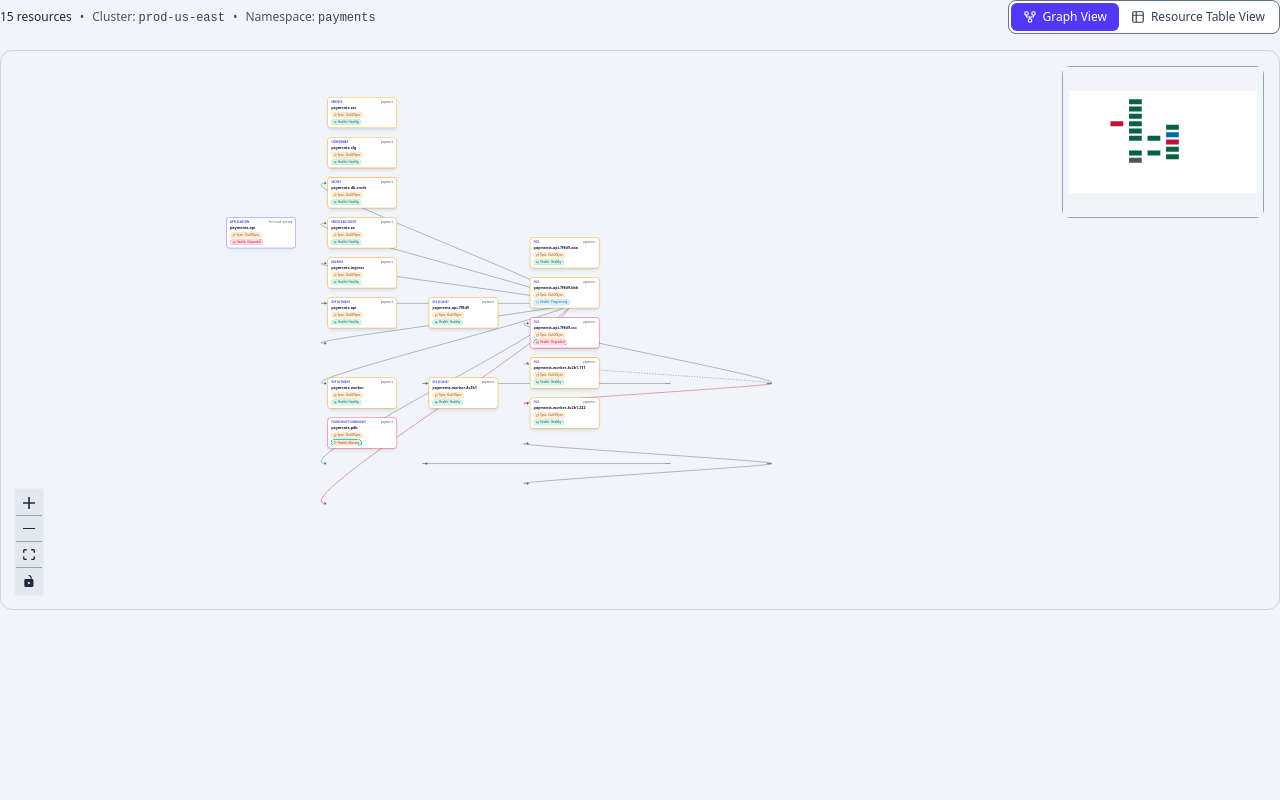
Test: ResourceGraph & dagre layout (T16.3 & Trap Guard T16.3) › closes the ResourceInspector on a backdrop click and on Escape
Click the button "Resource Table View": (1198, 17) [1119,3,1277,31]
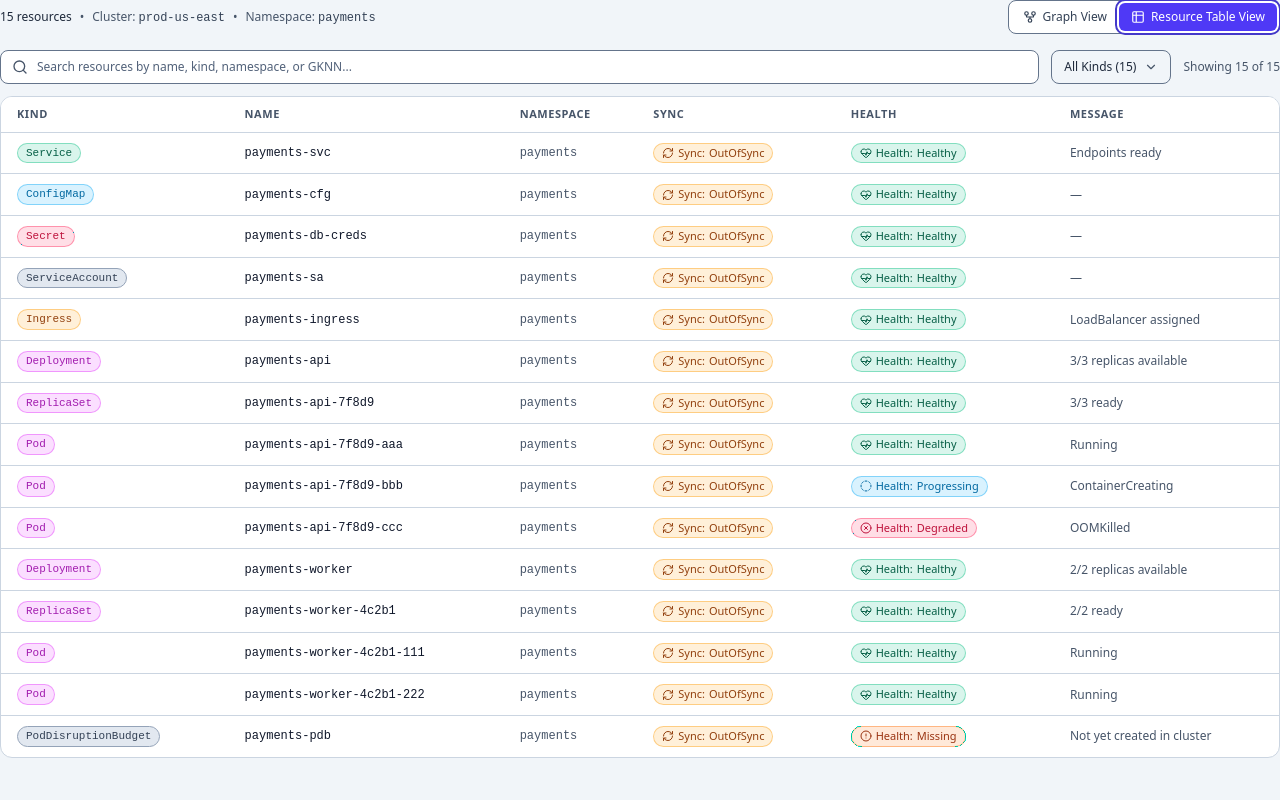
Click the text "payments-api-7f8d9-ccc": (366, 528) [229,507,504,549]
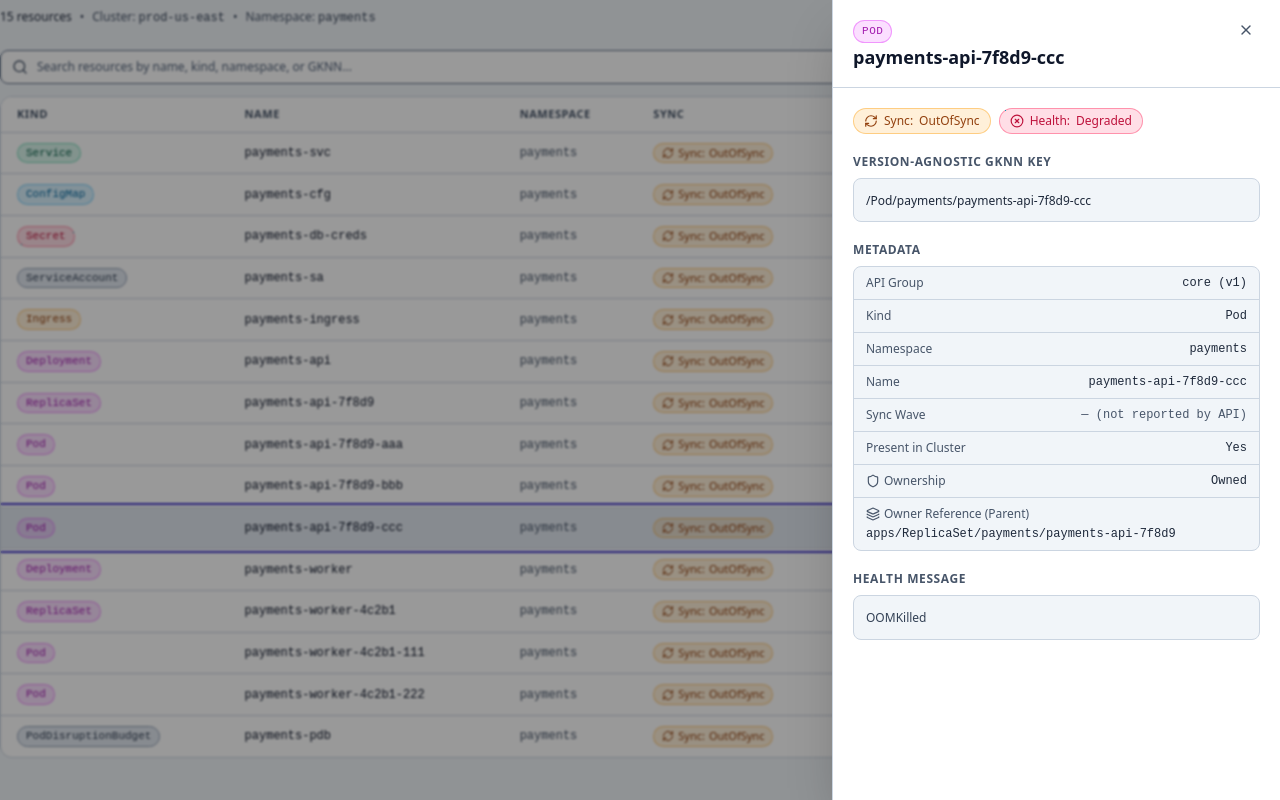
expect the element with test id "resource-inspector" is shown: met, box [832,0,1279,799]
Click the element with test id "resource-inspector-backdrop": (640, 400) [0,0,1279,799]
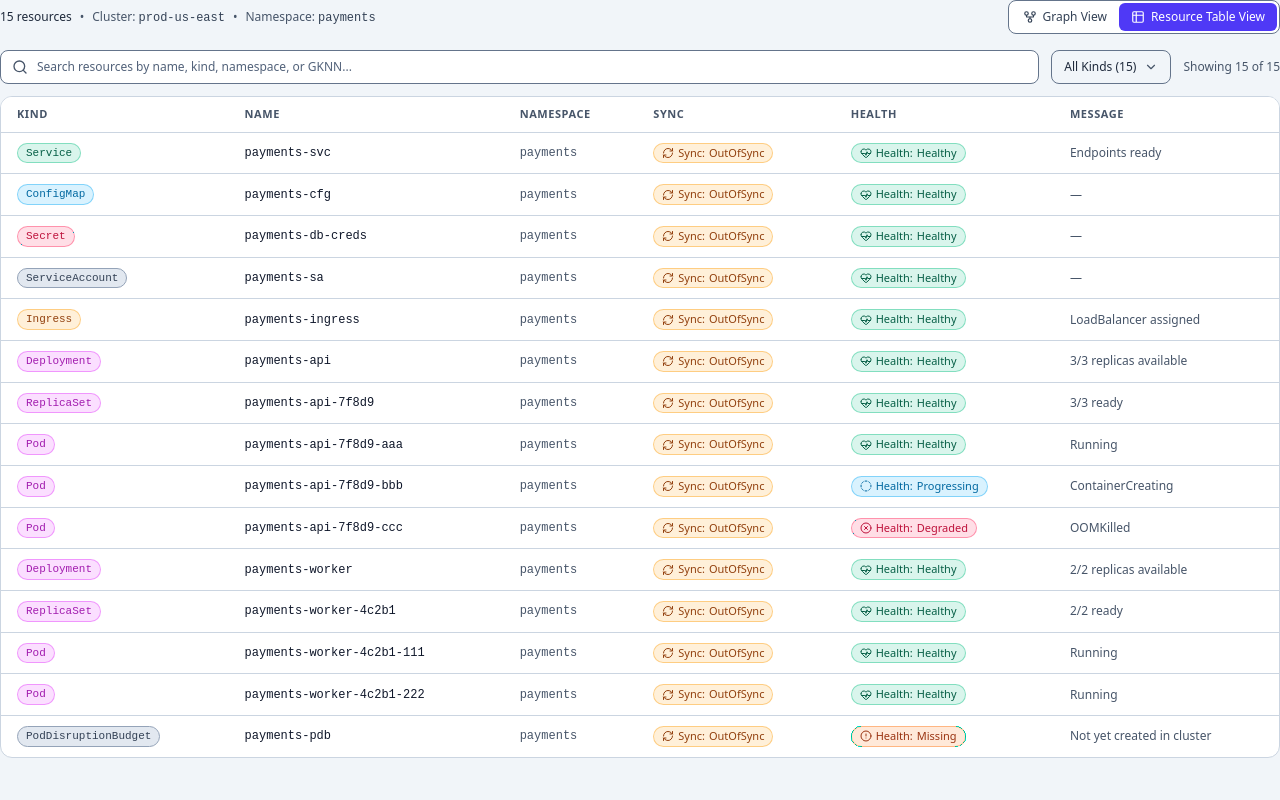
expect the element with test id "resource-inspector" is gone: met
Click the text "payments-api-7f8d9-ccc": (366, 528) [229,507,504,549]
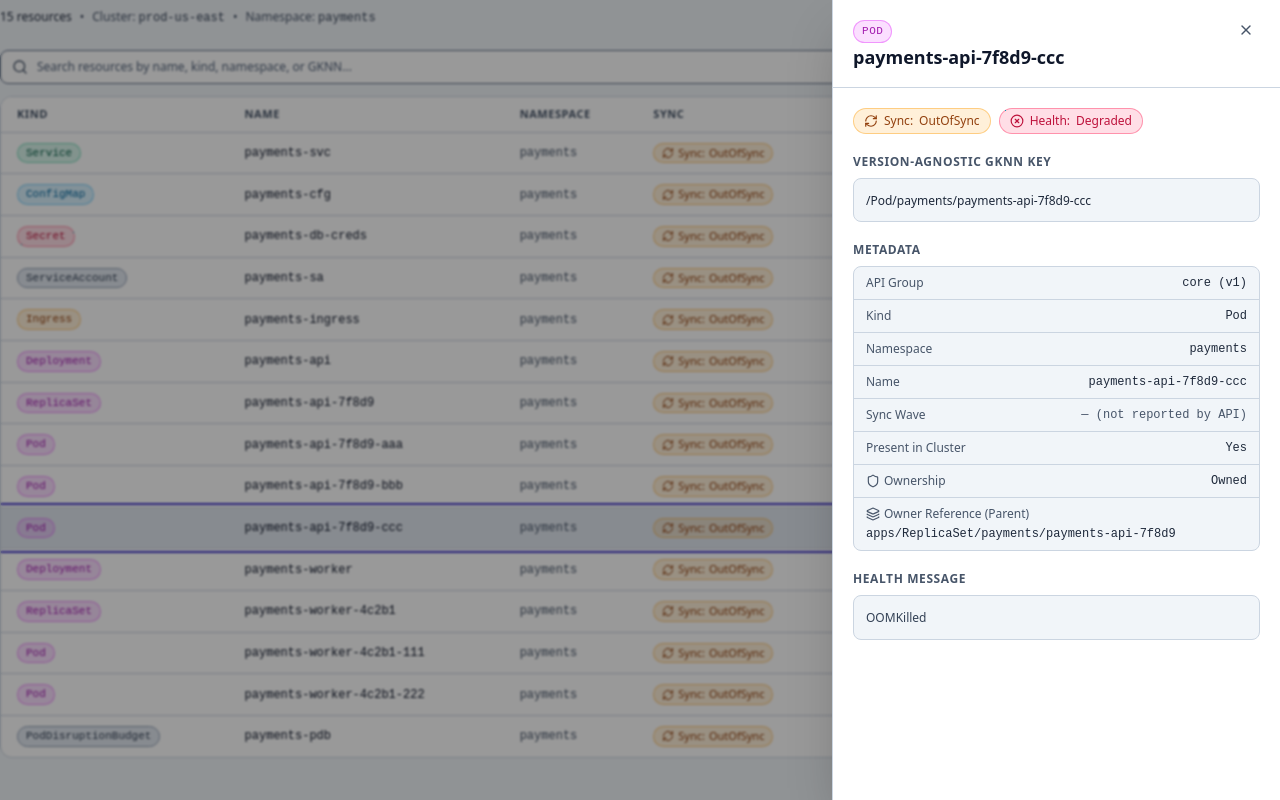
expect the element with test id "resource-inspector" is shown: met, box [832,0,1279,799]
Press Escape
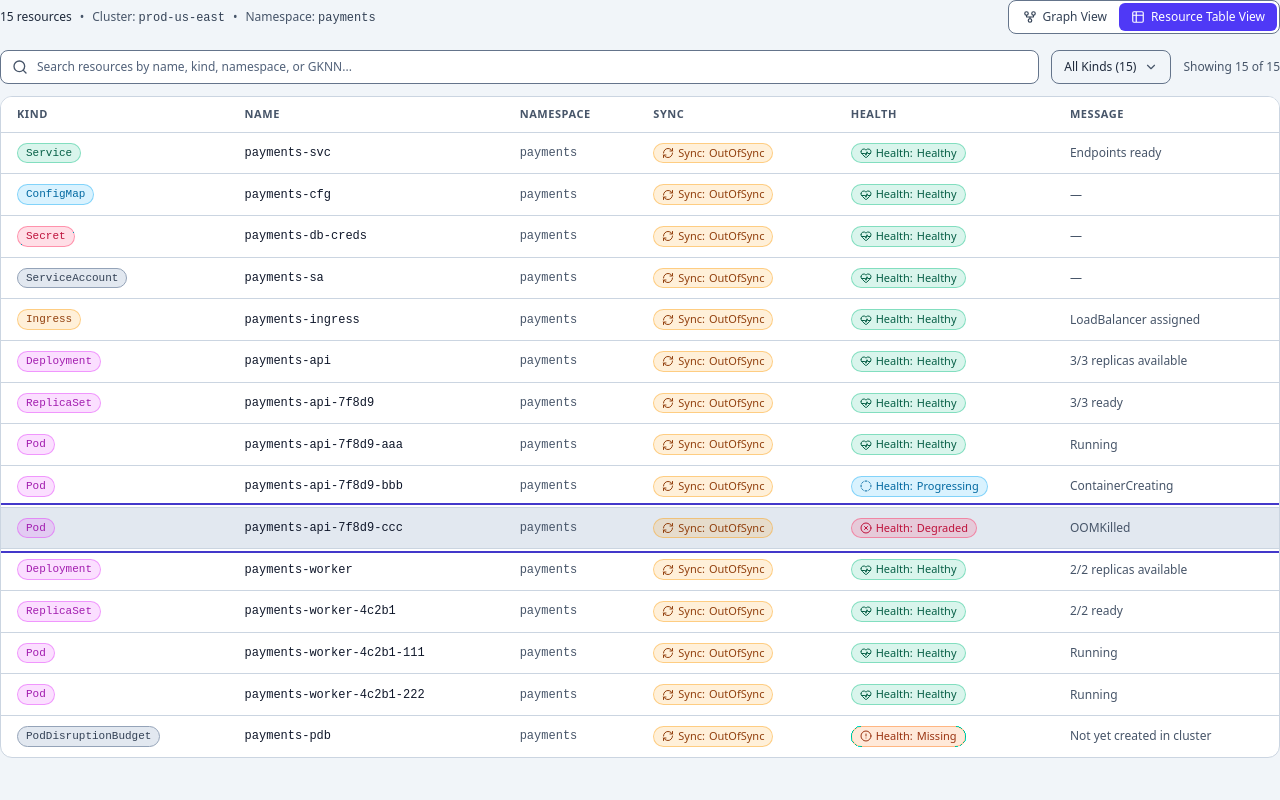
expect the element with test id "resource-inspector" is gone: met
